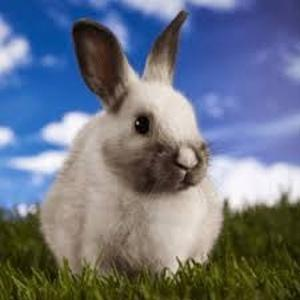rabbit: (40, 10, 222, 273)
